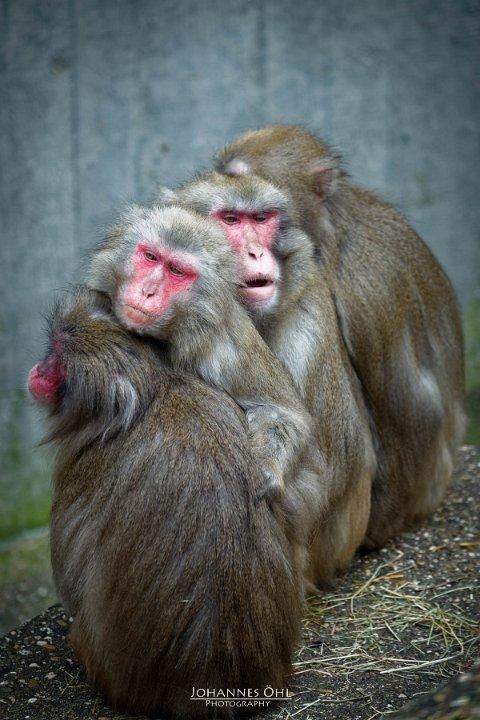monkey: (28, 124, 468, 720)
